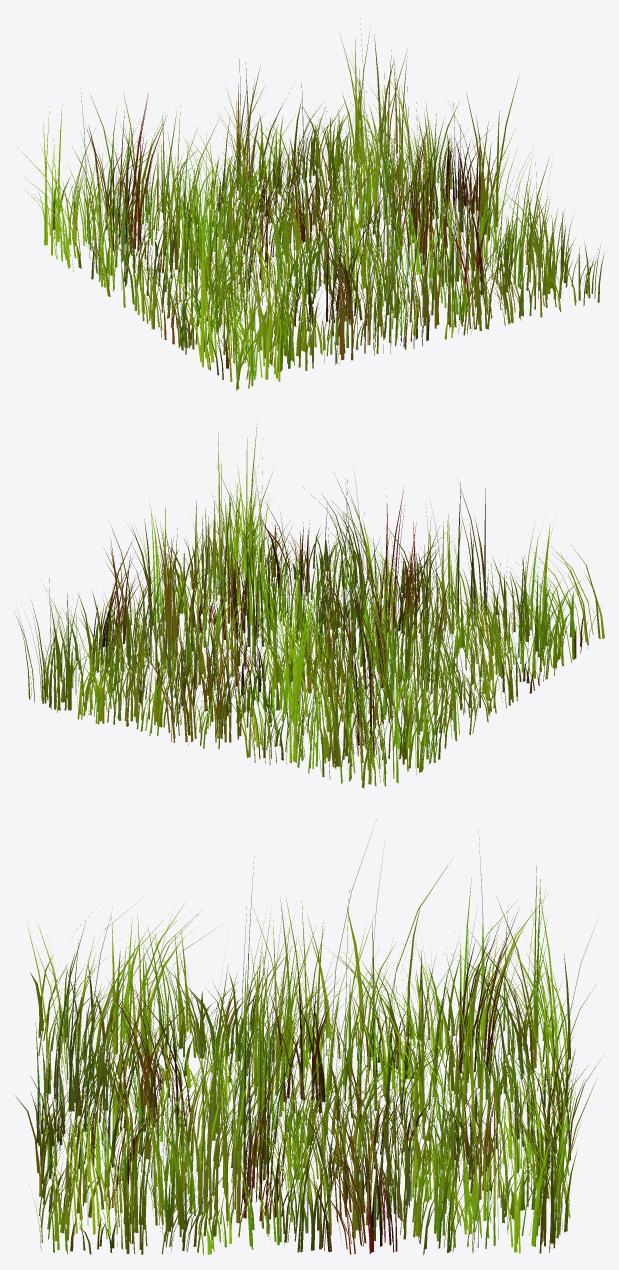
File: grass-far.glb
3 renders of one model, top to bottom at view 1: azimuth 30°, elevation 25°; view 2: azimuth 150°, elevation 25°; view 3: azimuth 270°, elevation 25°, orthographic. The views are drawn at different scales.
Parts seen in each view (by area): view 1: grass-far; view 2: grass-far; view 3: grass-far.
Boxes of the visible parts, left/top/right/bottom form: grass-far: left=17, top=18, right=604, bottom=390; grass-far: left=15, top=420, right=604, bottom=788; grass-far: left=14, top=819, right=600, bottom=1255.
Size of the model in its own units: 1.79 by 0.7413 by 1.66.
